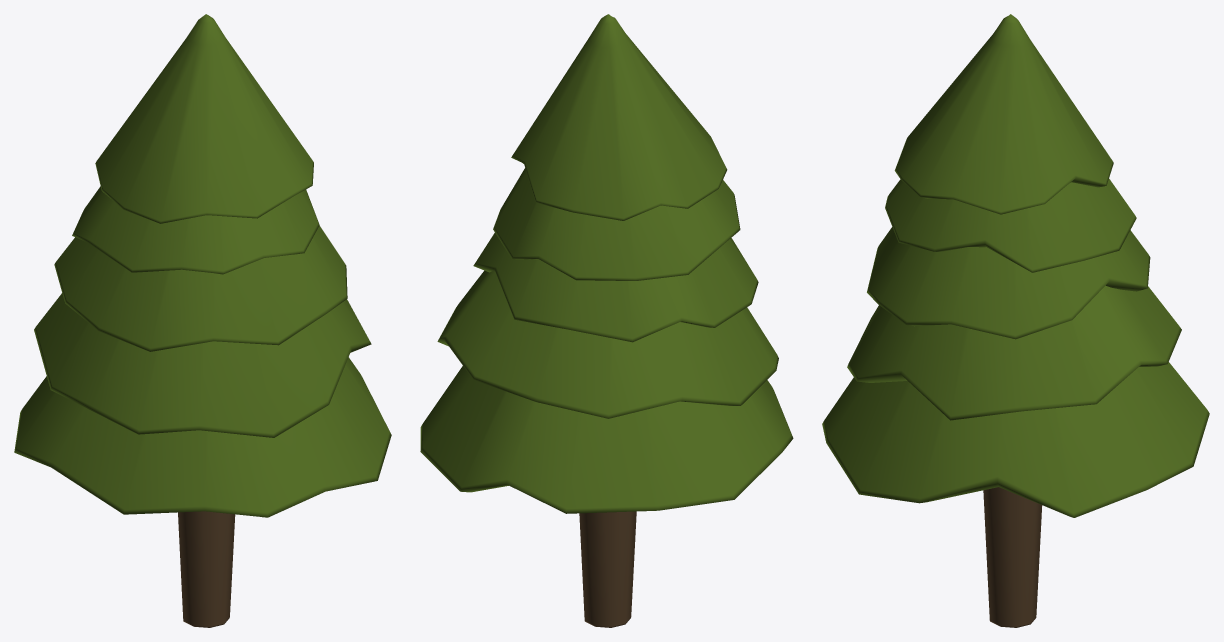
File: Agac.fbx
The picture shows the model from 3 angles, left to right: view 1: azimuth 30°, elevation 25°; view 2: azimuth 150°, elevation 25°; view 3: azimuth 270°, elevation 25°; orthographic projection.
Visible parts, largest first — view 1: AGAC; view 2: AGAC; view 3: AGAC.
Boxes of the visible parts, box(x1,y1,x2,y2) form: AGAC: box(14, 14, 391, 627); AGAC: box(420, 14, 793, 627); AGAC: box(822, 14, 1209, 627).
Bounding box in the file's own units: 173 × 311 × 181.
